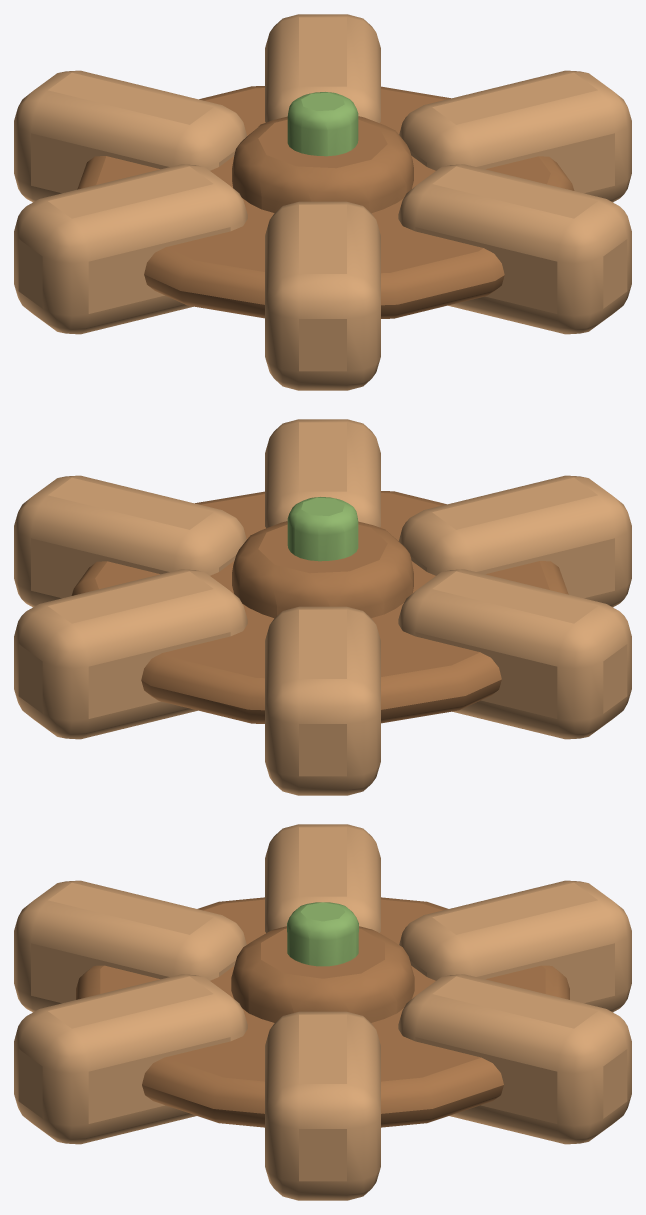
The model's file is mill.glb.
3 views of the same model, one above another, from view 1: azimuth 30°, elevation 25°; view 2: azimuth 150°, elevation 25°; view 3: azimuth 270°, elevation 25° (orthographic).
Parts seen in each view (by area): view 1: axle; view 2: axle; view 3: axle.
Part boxes in pixels (x1=…): axle: x1=14, y1=14, x2=631, y2=390; axle: x1=14, y1=419, x2=631, y2=795; axle: x1=14, y1=824, x2=631, y2=1200.
Size of the model in its own units: 0.875 by 0.2875 by 0.8007.
